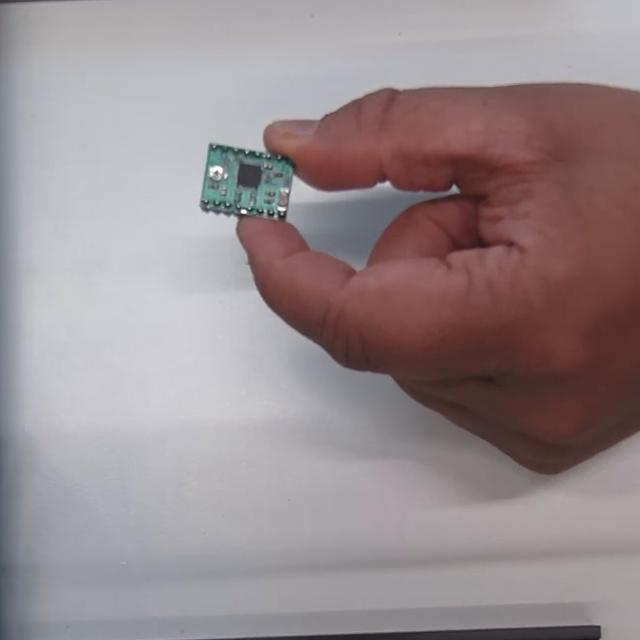Chip: (198, 145, 304, 220)
